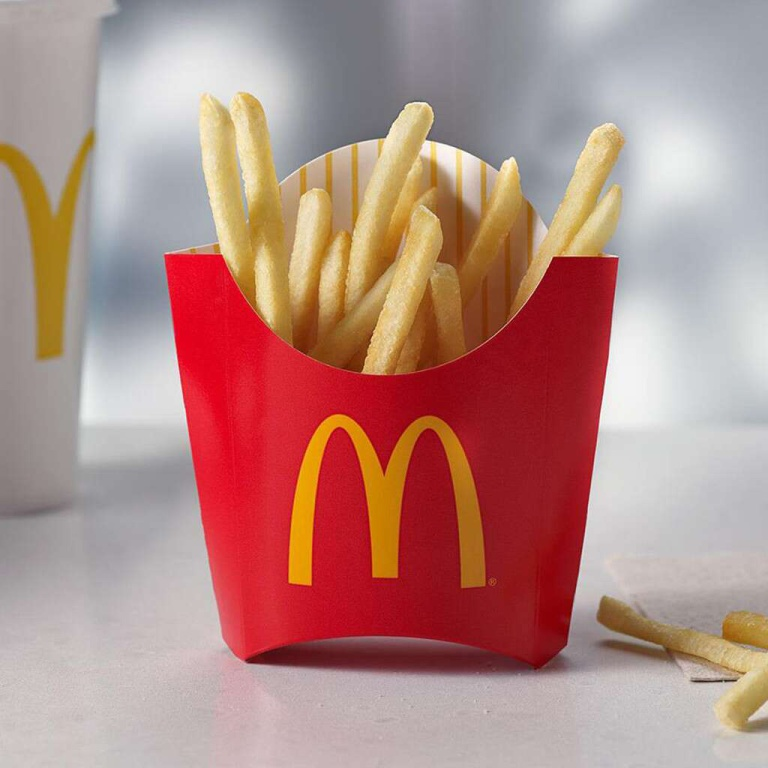mcdonalds: (283, 394, 517, 591)
